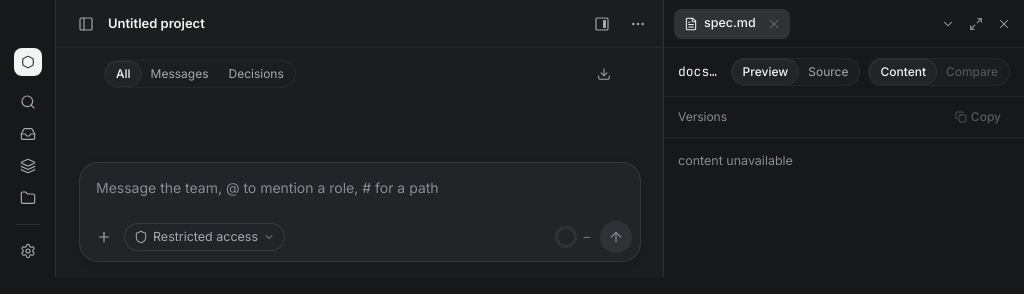
画布页签右键菜单（A16b 第一批） › 此刻做不了 → 禁用并写原因：最右页签「右侧没有页签」，唯一页签「没有其他页签」
The image size is (1024, 294).
(page scrolled)
Right-click the element showing "spec.md".
right_click(732, 24)  # box x1=674 y1=8 x2=790 y2=38
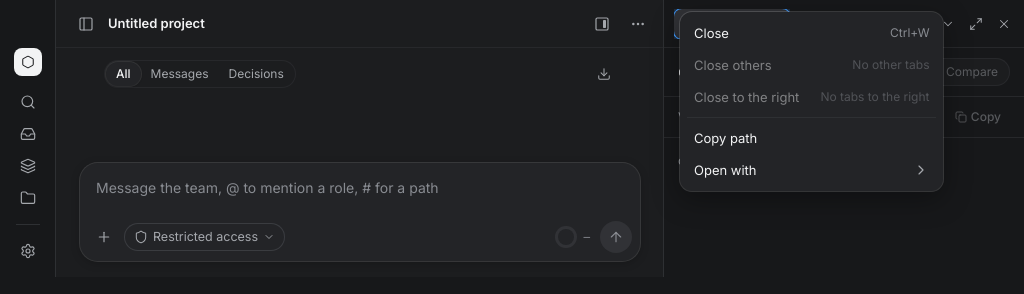
Now the menu item "Close to the right No tabs to the right" is shown, box x1=694 y1=89 x2=930 y2=105
Now the menu item "Close others No other tabs" is shown, box x1=694 y1=57 x2=930 y2=73
